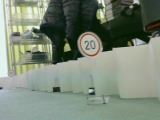speed_20: (75, 31, 102, 59)
